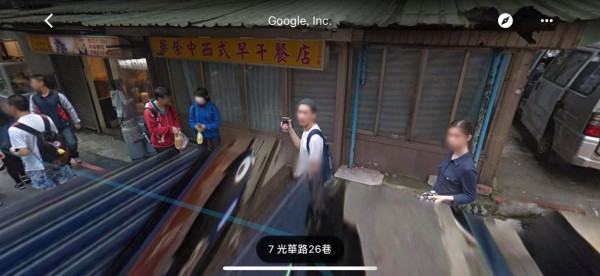people: (6, 97, 72, 188), (29, 70, 82, 162), (437, 124, 477, 221), (293, 97, 329, 184), (141, 82, 181, 160), (191, 88, 220, 149), (110, 80, 134, 139)
